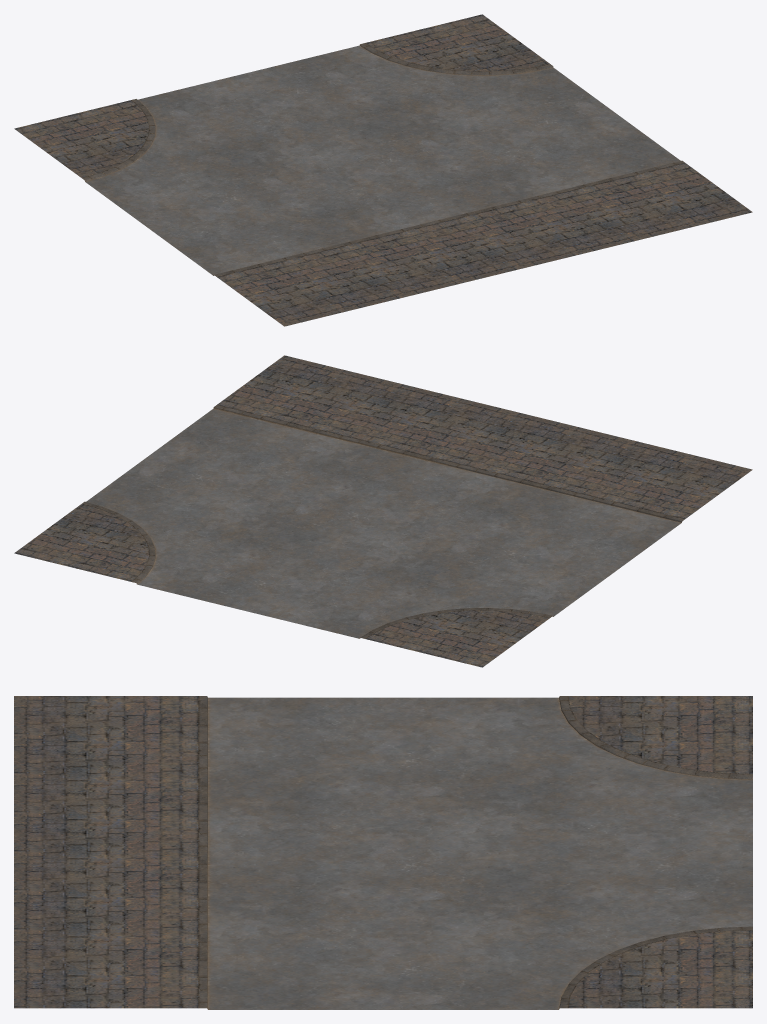
File: hutong_road_t.fbx
The picture shows the model from 3 angles, top to bottom: view 1: azimuth 30°, elevation 25°; view 2: azimuth 150°, elevation 25°; view 3: azimuth 270°, elevation 25°; orthographic projection. The views are drawn at different scales.
Visible parts, largest first — view 1: hutong_road_t; view 2: hutong_road_t; view 3: hutong_road_t.
Boxes of the visible parts, <box> form: hutong_road_t: <box>14,14,752,326</box>; hutong_road_t: <box>14,355,752,667</box>; hutong_road_t: <box>14,696,752,1009</box>.
Size of the model in its own units: 800 by 2 by 800.
1 material, 1 textured.
